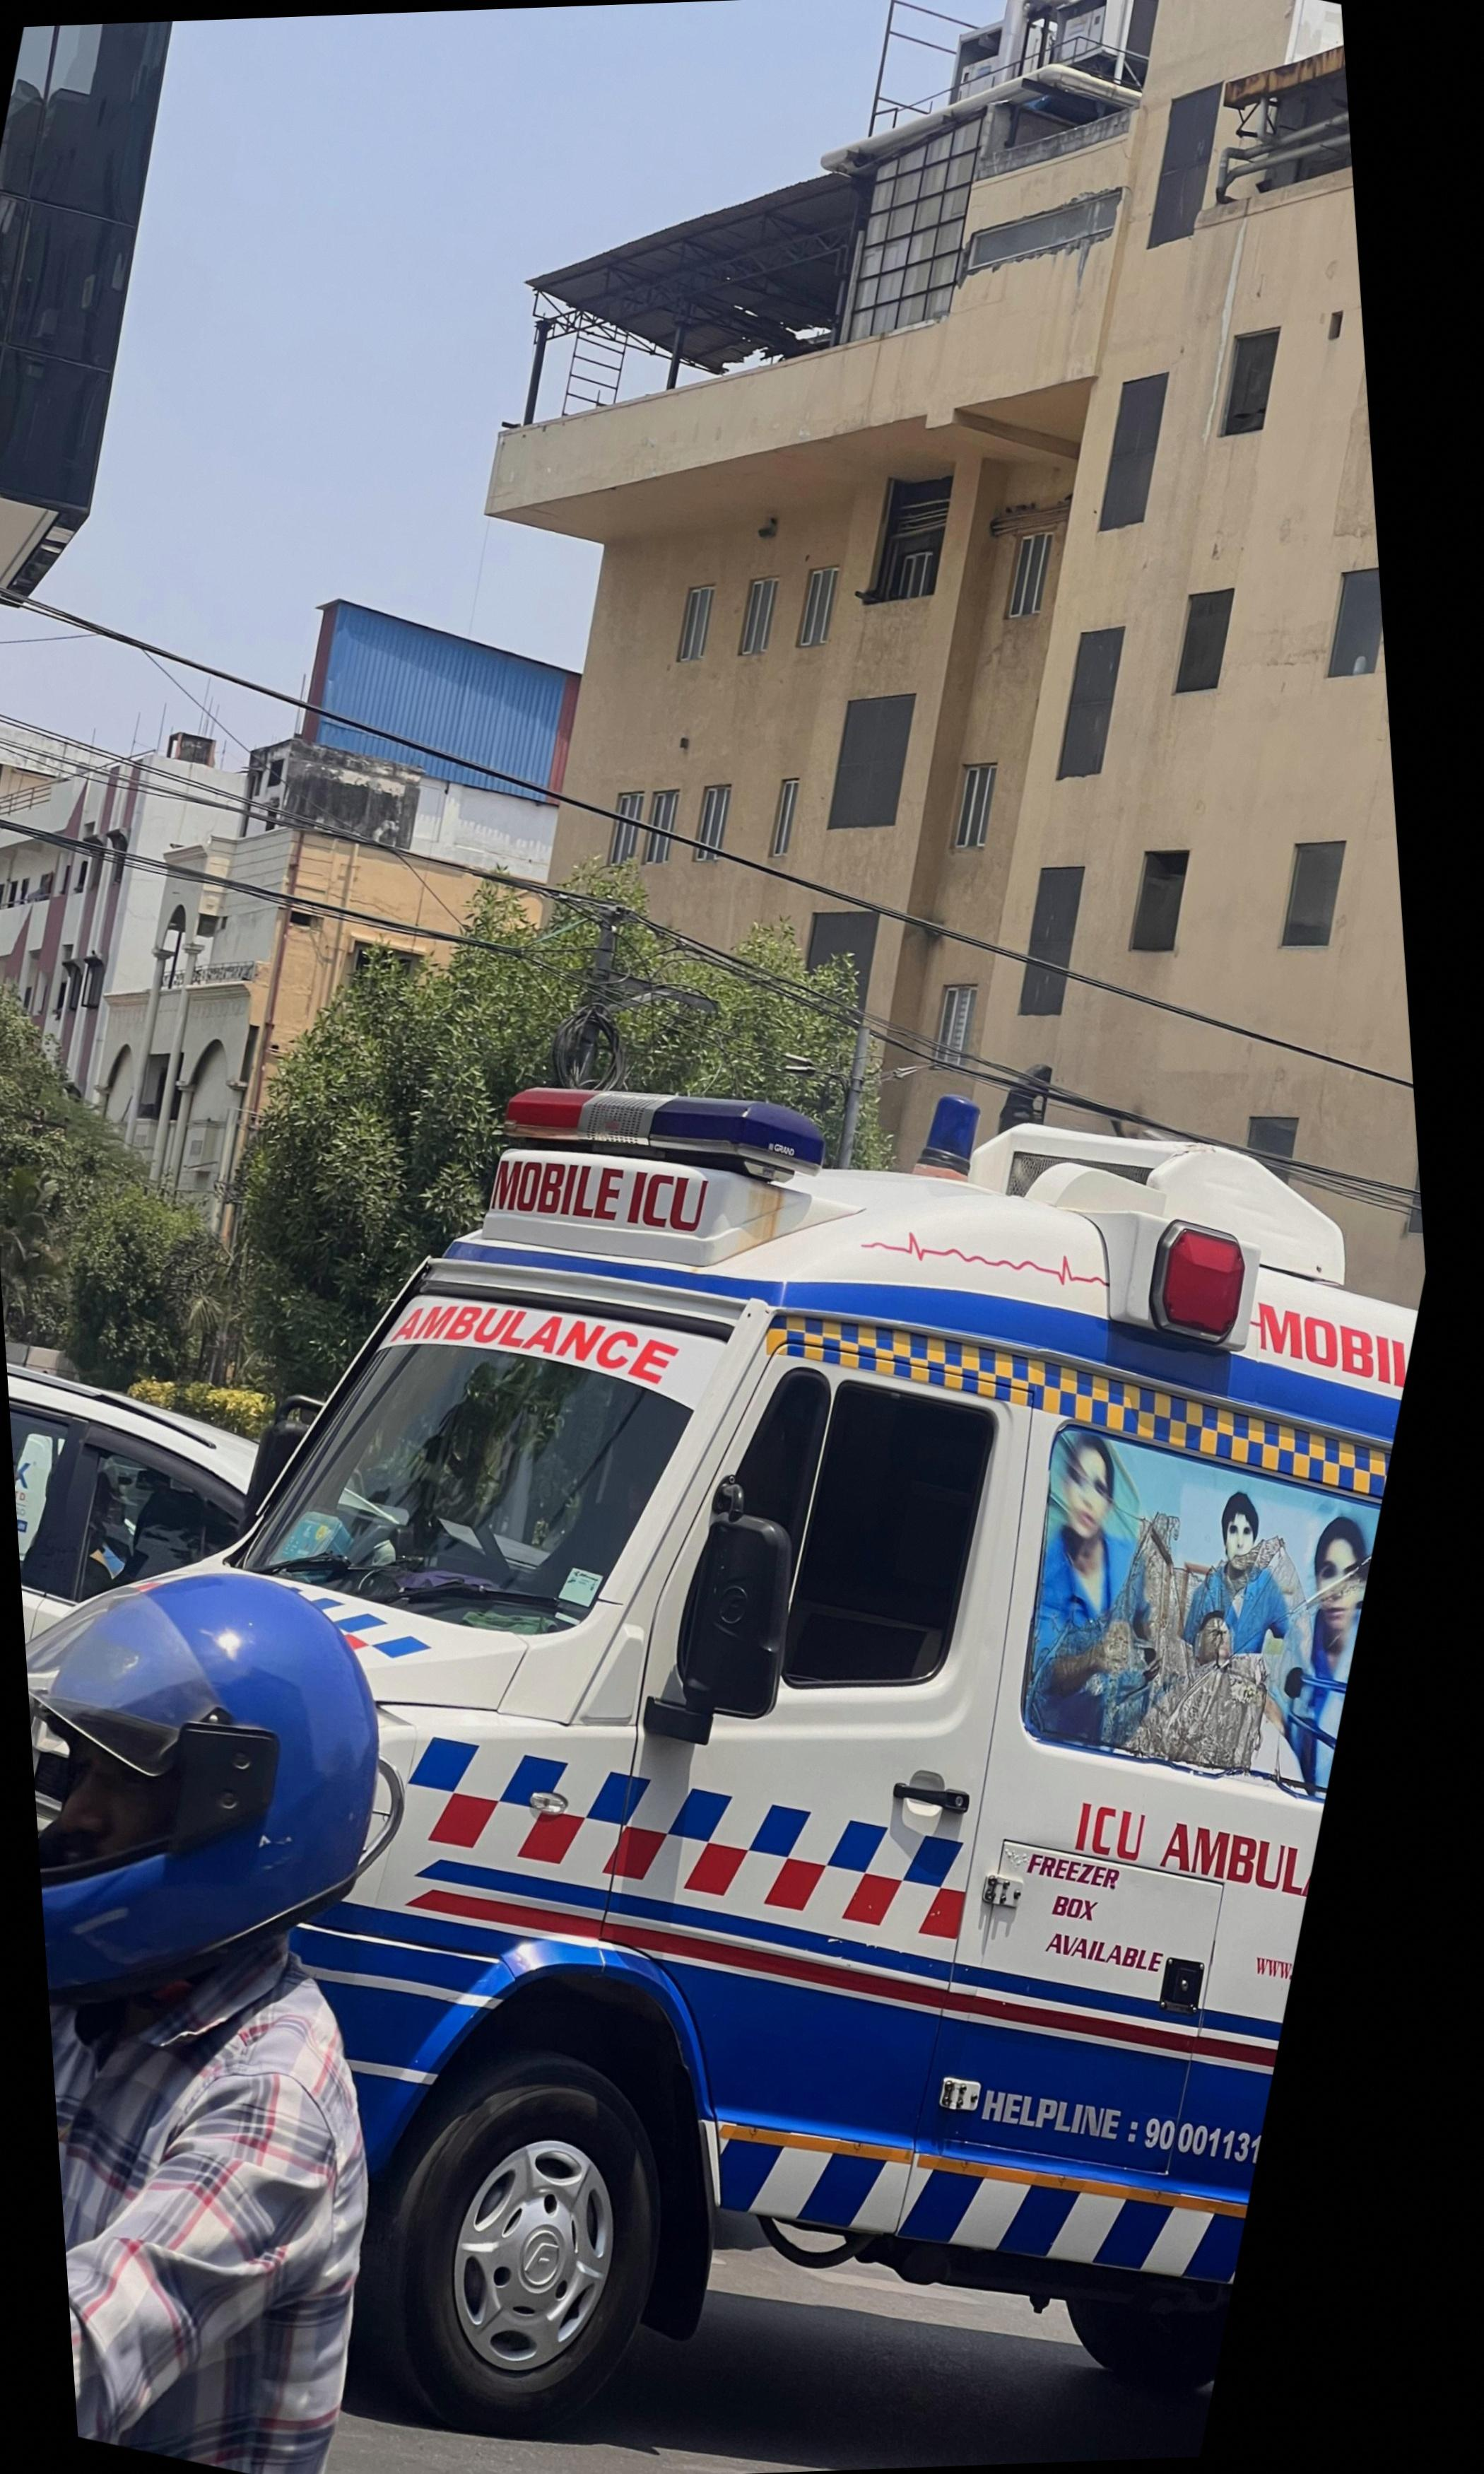ambulance: (233, 1103, 1431, 2394)
